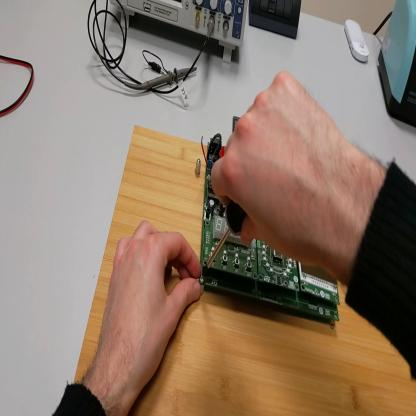hand: (211, 72, 344, 272), (96, 207, 207, 396)
low voltage board: (206, 113, 341, 326)
oscilloscope: (111, 1, 250, 61)
oscilloscope probe tip: (140, 65, 197, 89)
screwdriver-: (207, 199, 244, 269)
welder station: (378, 3, 416, 122)
working area: (75, 124, 416, 414)
